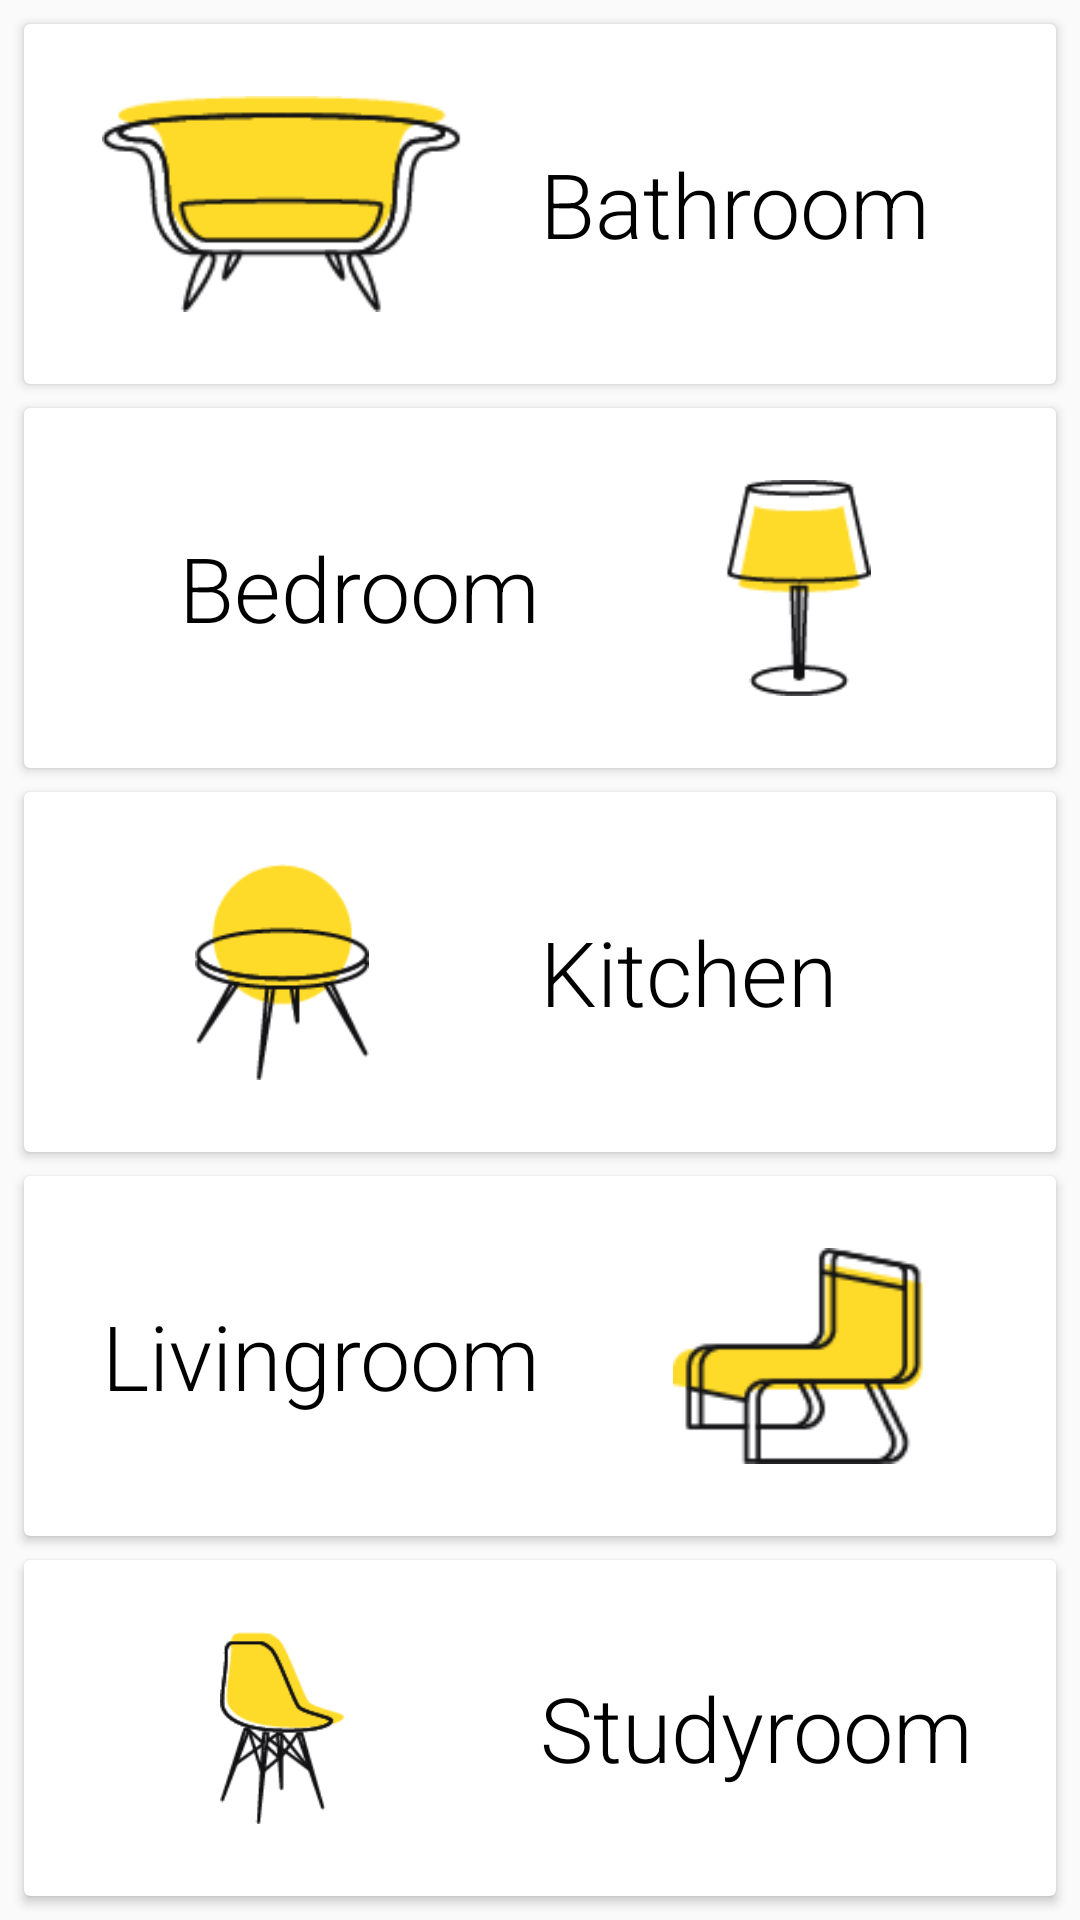

Where to tap for icons on this 1080 × 1920 app screen, as (x,y):
kithcen: (282,972)
